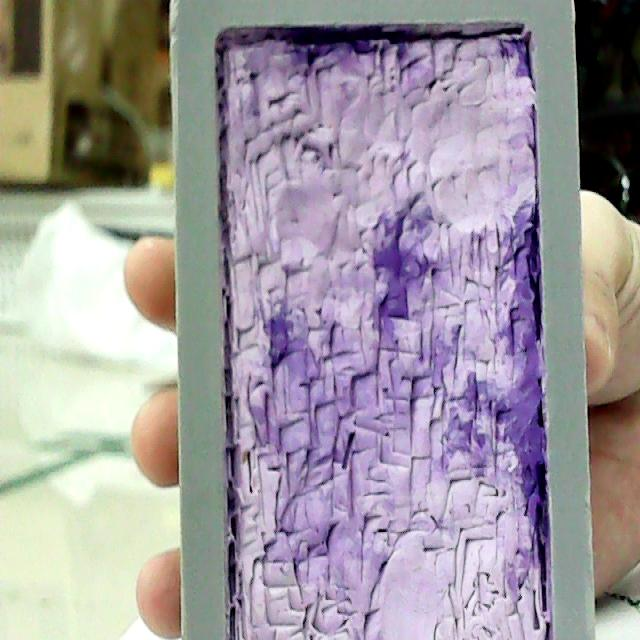block: (169, 2, 601, 633)
